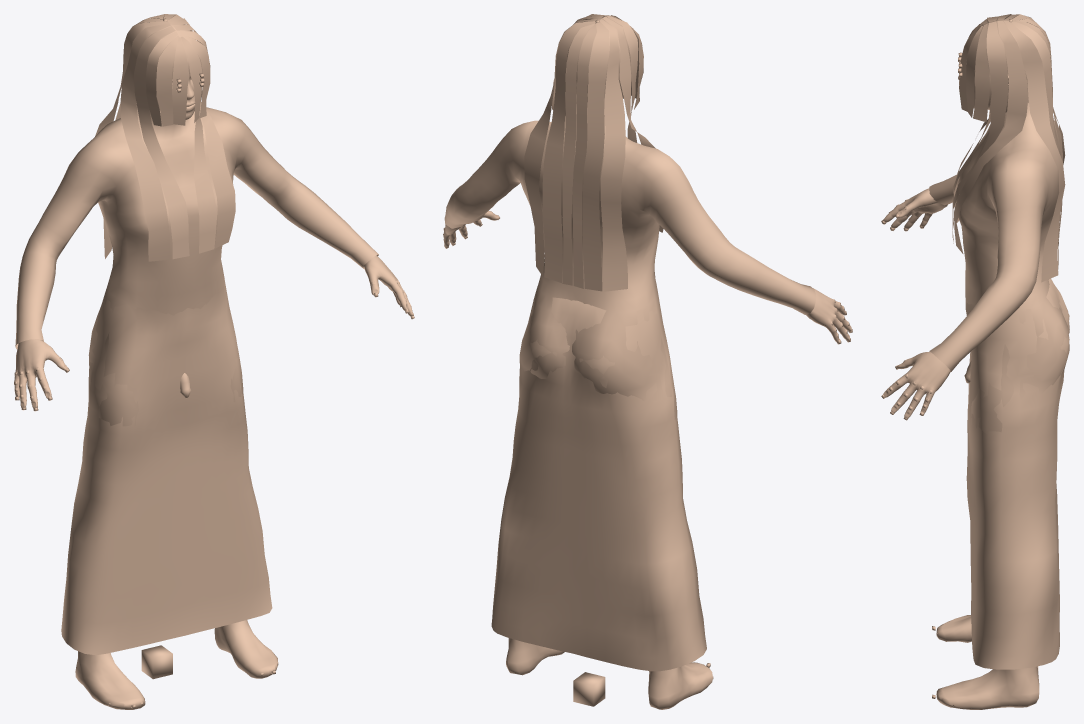
Rendered from avatar-base-male.glb.
3 renders of one model, left to right at view 1: azimuth 30°, elevation 25°; view 2: azimuth 150°, elevation 25°; view 3: azimuth 270°, elevation 25°, orthographic. The views are drawn at different scales.
Parts seen in each view (by area): view 1: Human; view 2: Human; view 3: Human.
Part boxes in pixels (bbox=[...]): Human: bbox=[14, 14, 414, 709]; Human: bbox=[443, 14, 852, 709]; Human: bbox=[881, 14, 1069, 709].
Bounding box in the file's own units: 1.05 × 1.69 × 0.4389.
